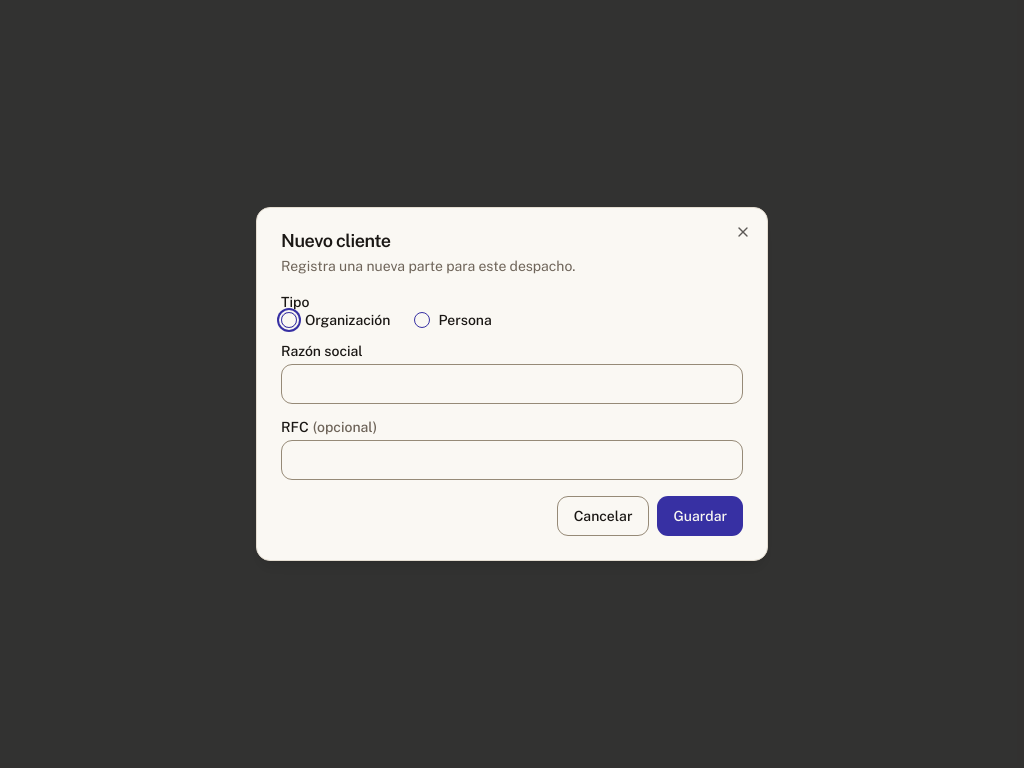
Test: every input is labelled, and every error is announced › announces each validation error and ties it to its input
The width and height of the screenshot is (1024, 768).
expect the dialog is shown: met, box [256,207,768,561]
Step 1. Click the button "Guardar" → (700, 516), box [658,496,743,536]
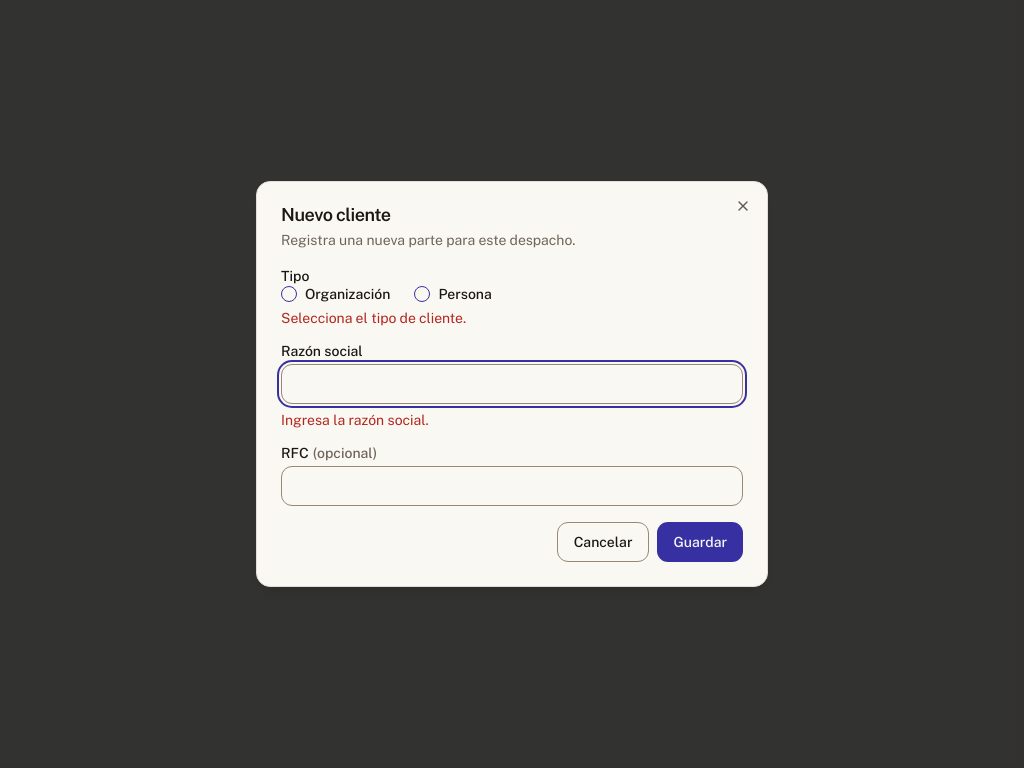
expect the text "Ingresa la razón social." is shown: met, box [281,412,429,428]
